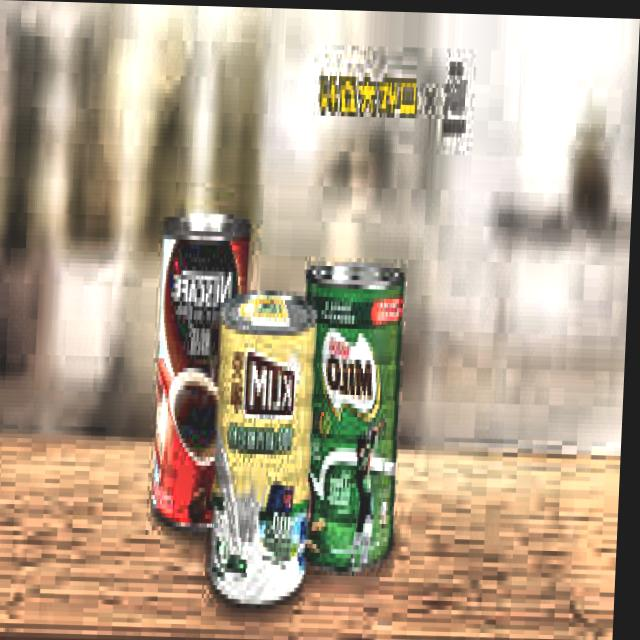can: (293, 250, 413, 585), (209, 280, 324, 609), (149, 205, 256, 540)
